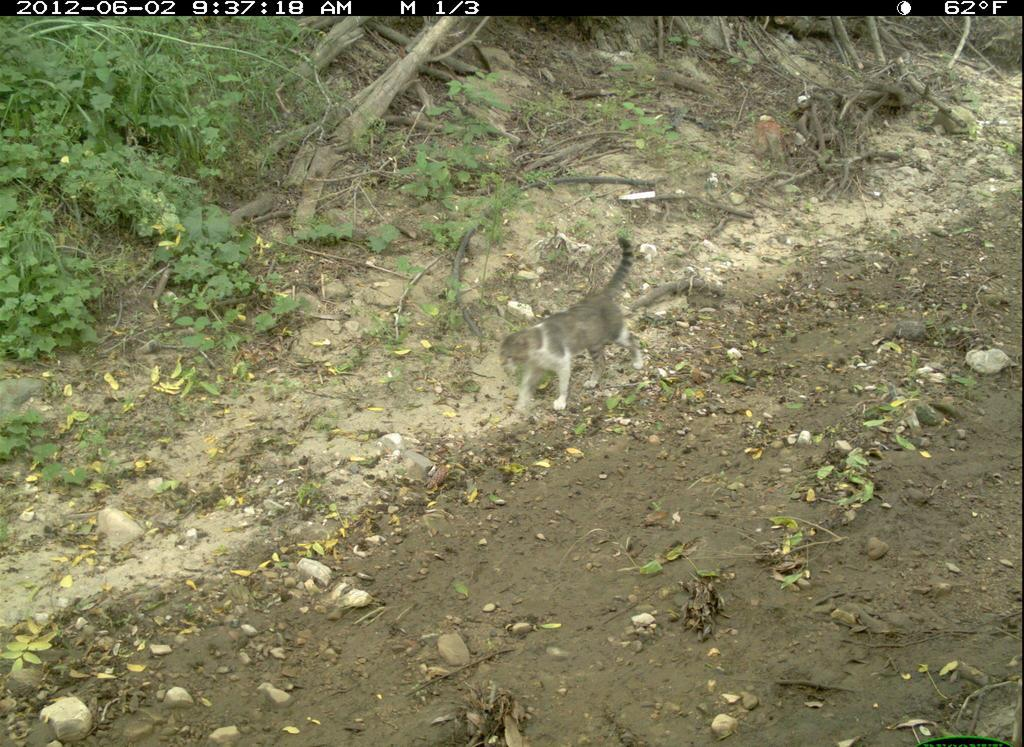cat: (497, 236, 646, 443)
